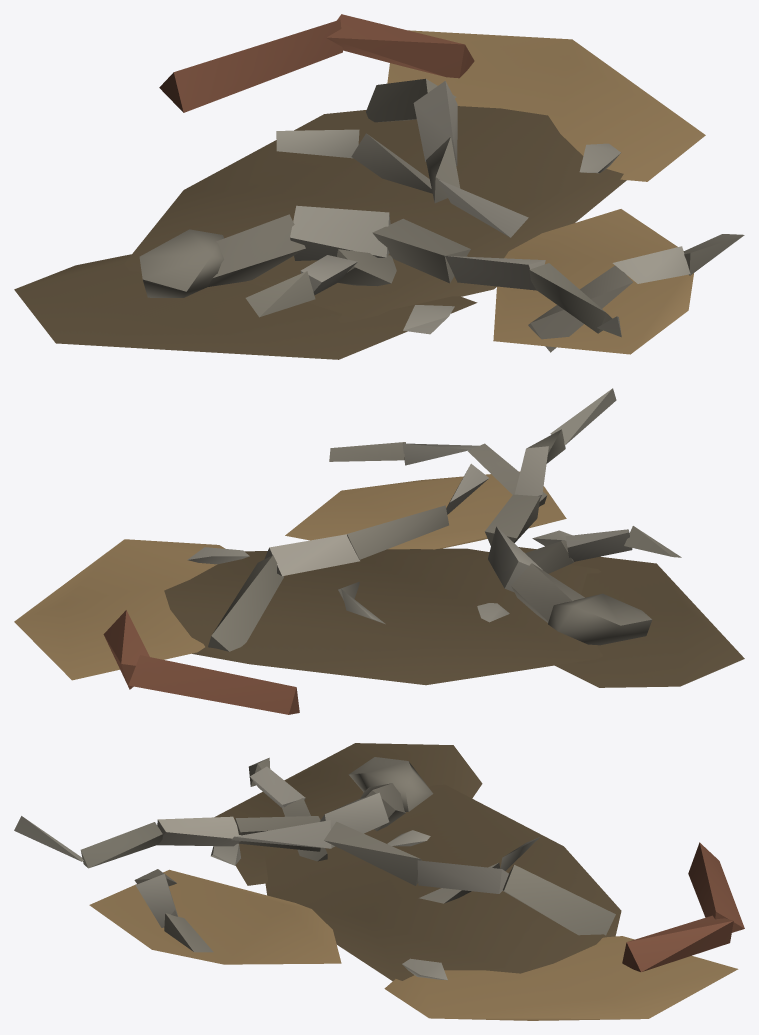
The model's file is fulgurite_b_lod2.glb.
The picture shows the model from 3 angles, top to bottom: view 1: azimuth 30°, elevation 25°; view 2: azimuth 150°, elevation 25°; view 3: azimuth 270°, elevation 25°; orthographic projection. The views are drawn at different scales.
Parts seen in each view (by area): view 1: Surface.001; view 2: Surface.001; view 3: Surface.001.
Boxes of the visible parts, x1=… form: Surface.001: x1=14, y1=14, x2=744, y2=359; Surface.001: x1=14, y1=388, x2=744, y2=714; Surface.001: x1=14, y1=743, x2=744, y2=1020.
Size of the model in its own units: 2.77 by 0.3999 by 3.06.
